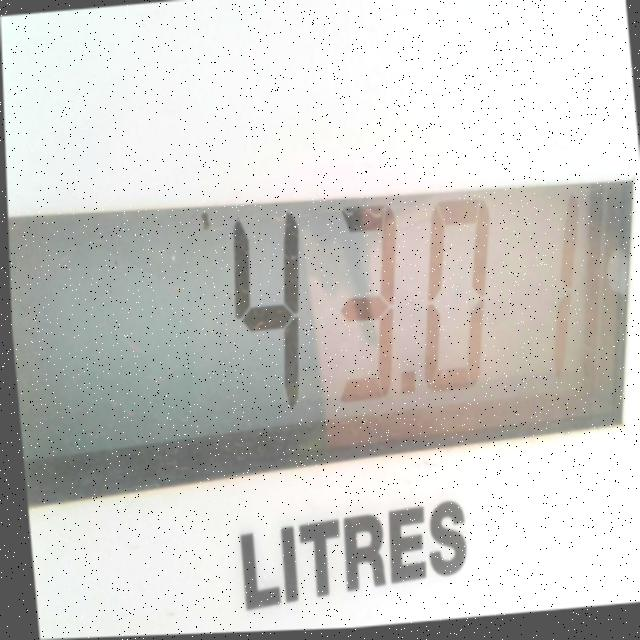.: (391, 356, 418, 408)
0: (404, 202, 507, 404)
1: (514, 197, 599, 383)
3: (324, 205, 420, 412)
4: (211, 213, 328, 428)
